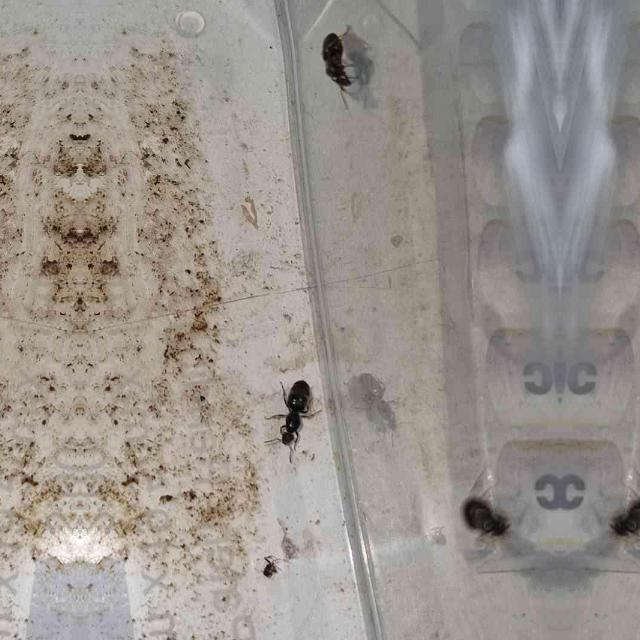Lasius: (262, 368, 316, 450), (452, 488, 526, 544), (312, 19, 356, 102), (592, 486, 640, 544)
